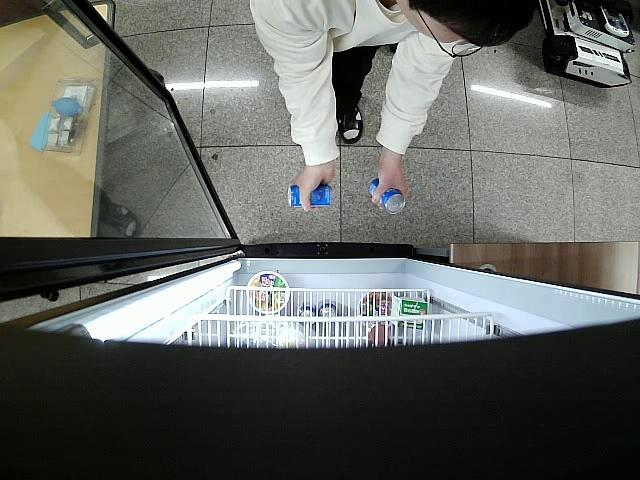00_hand: (288, 163, 335, 212), (371, 153, 407, 209)
15_letsbe: (367, 176, 408, 217), (287, 183, 334, 208)
